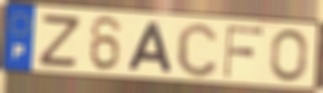6: (88, 15, 124, 74)
A: (125, 20, 175, 75)
C: (175, 21, 220, 80)
F: (221, 24, 266, 80)
O: (269, 28, 309, 84)
Z: (36, 14, 84, 70)
